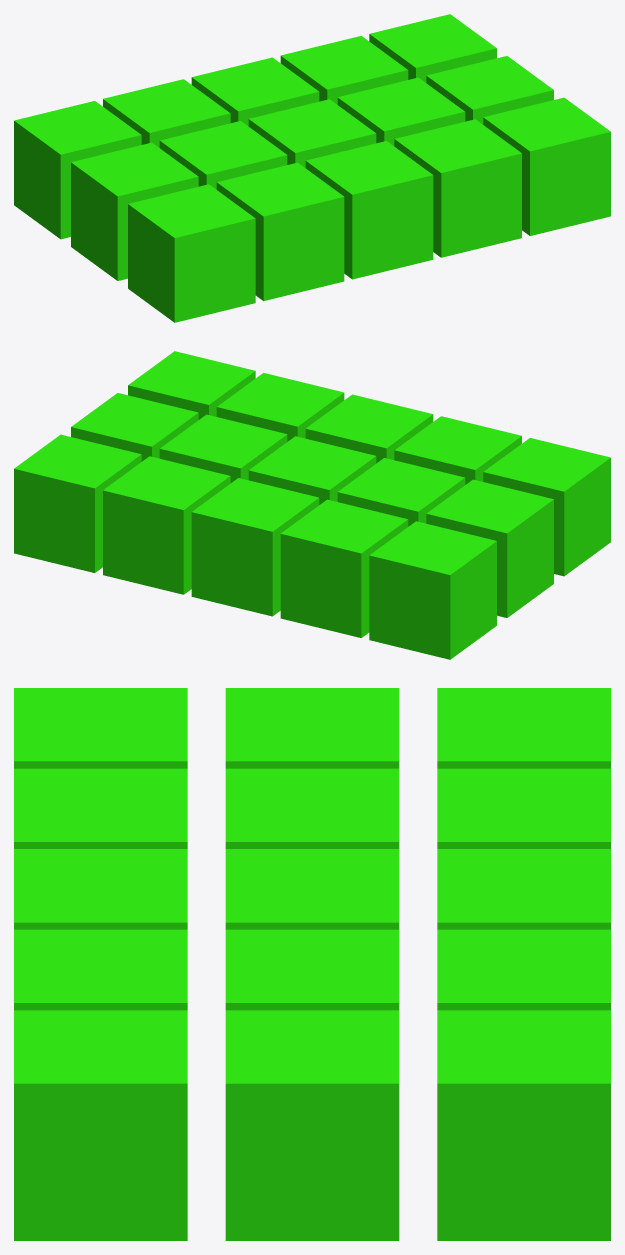
Rendered from Level-001.fbx.
3 views of the same model, one above another, from view 1: azimuth 30°, elevation 25°; view 2: azimuth 150°, elevation 25°; view 3: azimuth 270°, elevation 25° (orthographic). The views are drawn at different scales.
Parts seen in each view (by area): view 1: Body (×15); view 2: Body (×15); view 3: Body (×15).
Boxes of the visible parts, x1,y1,x2,y2 form: Body (×15): (14, 14, 610, 322); Body (×15): (14, 351, 610, 659); Body (×15): (14, 688, 610, 1240).
Bounding box in the file's own units: 2.21 × 0.41 × 1.41.
